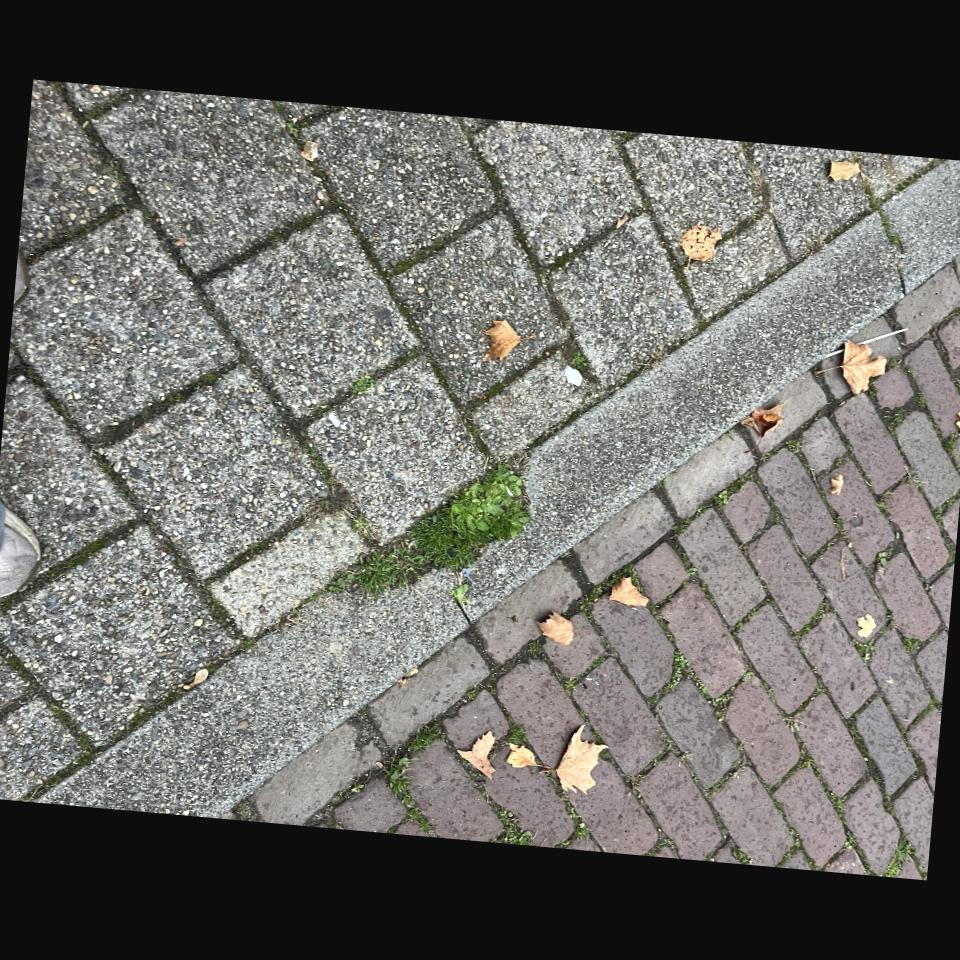weed: (336, 465, 530, 594), (382, 723, 445, 837), (685, 664, 742, 766), (713, 469, 756, 508), (496, 807, 533, 846), (796, 600, 833, 638), (883, 837, 912, 877), (664, 651, 690, 693), (573, 809, 588, 838), (508, 725, 526, 744)
